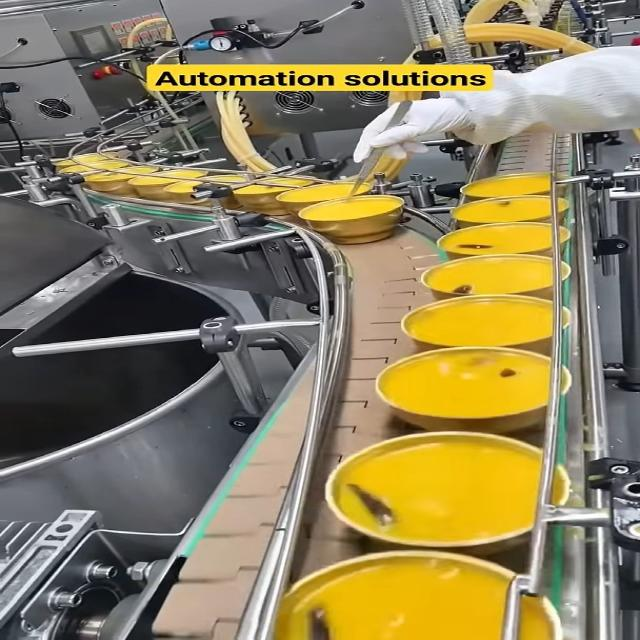cup: (304, 428, 596, 558), (232, 549, 590, 640), (366, 345, 587, 436), (392, 293, 585, 354), (410, 252, 582, 302), (288, 194, 424, 245), (430, 222, 588, 260), (270, 175, 390, 219), (442, 196, 588, 229), (230, 174, 320, 218), (165, 171, 262, 206), (457, 172, 574, 201), (122, 167, 214, 199), (76, 165, 165, 196), (60, 156, 128, 183)
